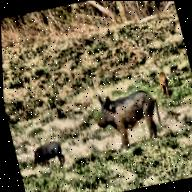boar: (89, 83, 166, 151), (30, 139, 67, 170)
